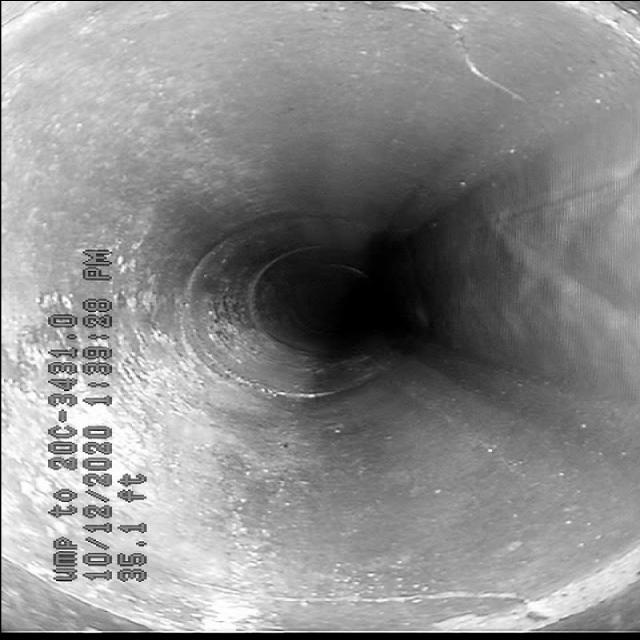Crack: (349, 1, 538, 106), (195, 562, 528, 612)
